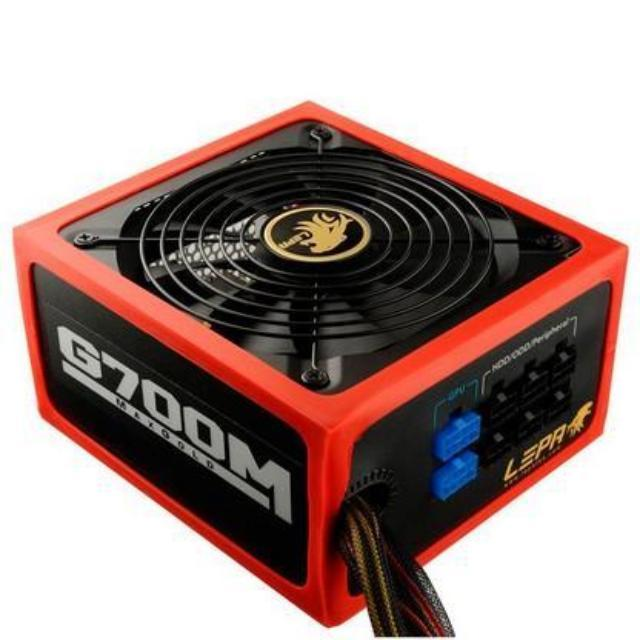PSU: (5, 86, 637, 632)
